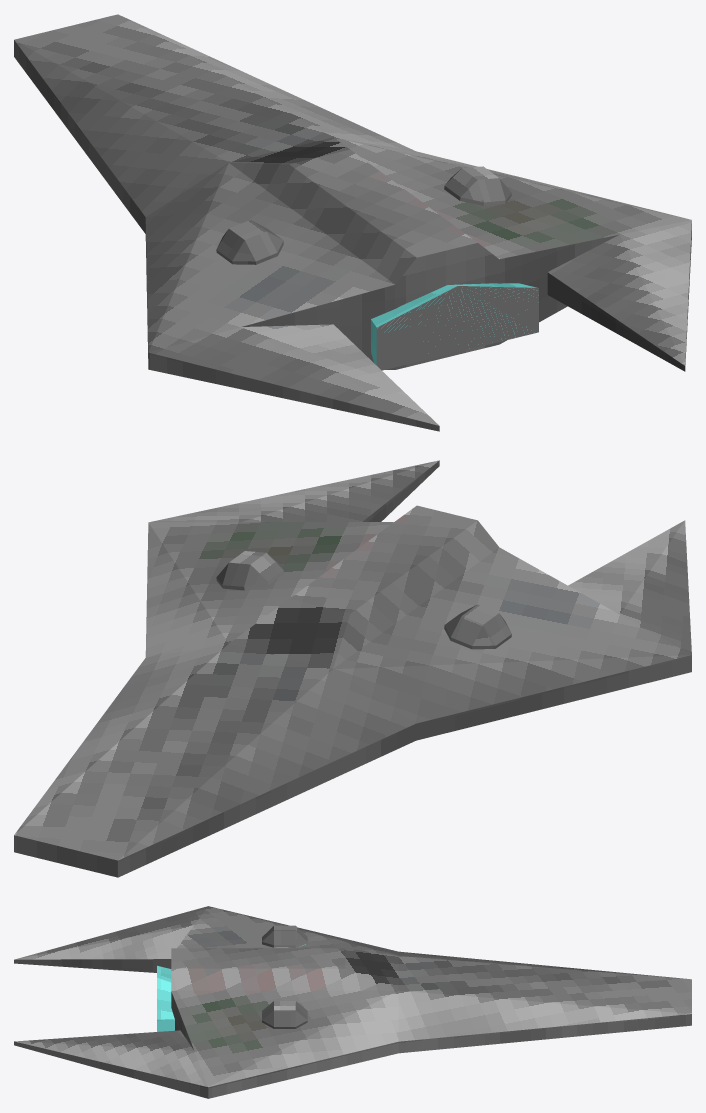
The model's file is ship.glb.
3 renders of one model, top to bottom at view 1: azimuth 30°, elevation 25°; view 2: azimuth 150°, elevation 25°; view 3: azimuth 270°, elevation 25°, orthographic. The views are drawn at different scales.
Visible parts, largest first — view 1: ship; view 2: ship; view 3: ship.
Boxes of the visible parts, x1,y1,x2,y2 form: ship: [14, 14, 691, 431]; ship: [14, 460, 691, 877]; ship: [14, 906, 691, 1098].
Size of the model in its own units: 1.99 by 0.3739 by 3.14.
Materials: 1 (1 with a texture image).
